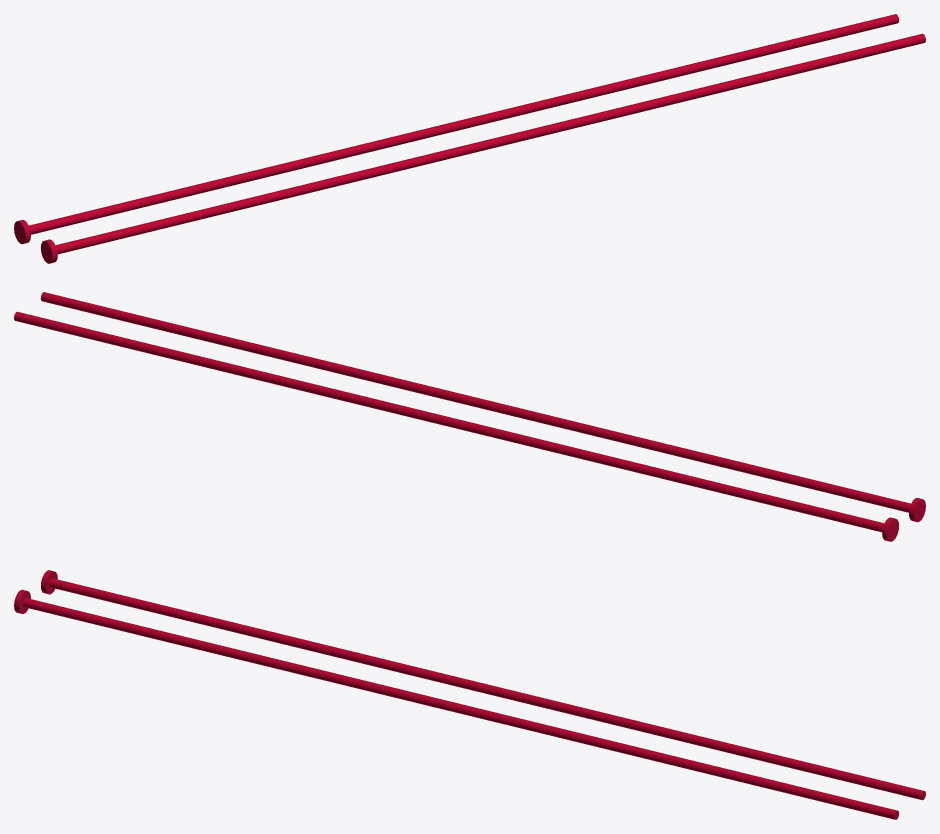
The model's file is 04_02_03_Bewehrung_WS_B.gltf.
3 renders of one model, top to bottom at view 1: azimuth 30°, elevation 25°; view 2: azimuth 150°, elevation 25°; view 3: azimuth 330°, elevation 25°, orthographic.
Visible parts, largest first — view 1: Model (×2); view 2: Model (×2); view 3: Model (×2).
Boxes of the visible parts, x1=… form: Model (×2): x1=14, y1=14, x2=925, y2=263; Model (×2): x1=14, y1=292, x2=925, y2=541; Model (×2): x1=14, y1=570, x2=925, y2=819.
Size of the model in its own units: 170 by 4 by 13.
